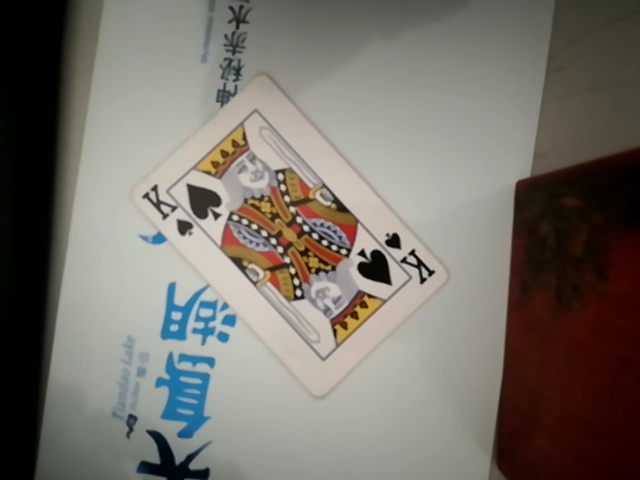ht k: (140, 72, 451, 380)
